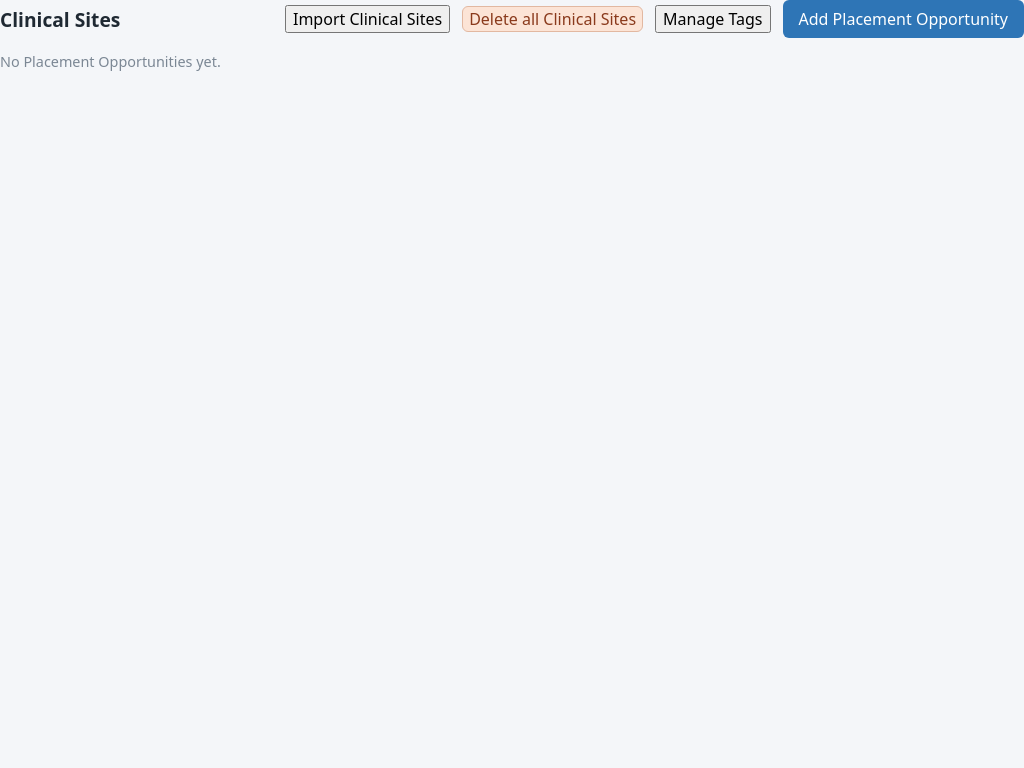
Clinical Sites import dialog › renders the preview with 12-hour times, tags, and tag registry impact
Click the button "Import Clinical Sites". click: (368, 19)
box: [285,5,450,33]
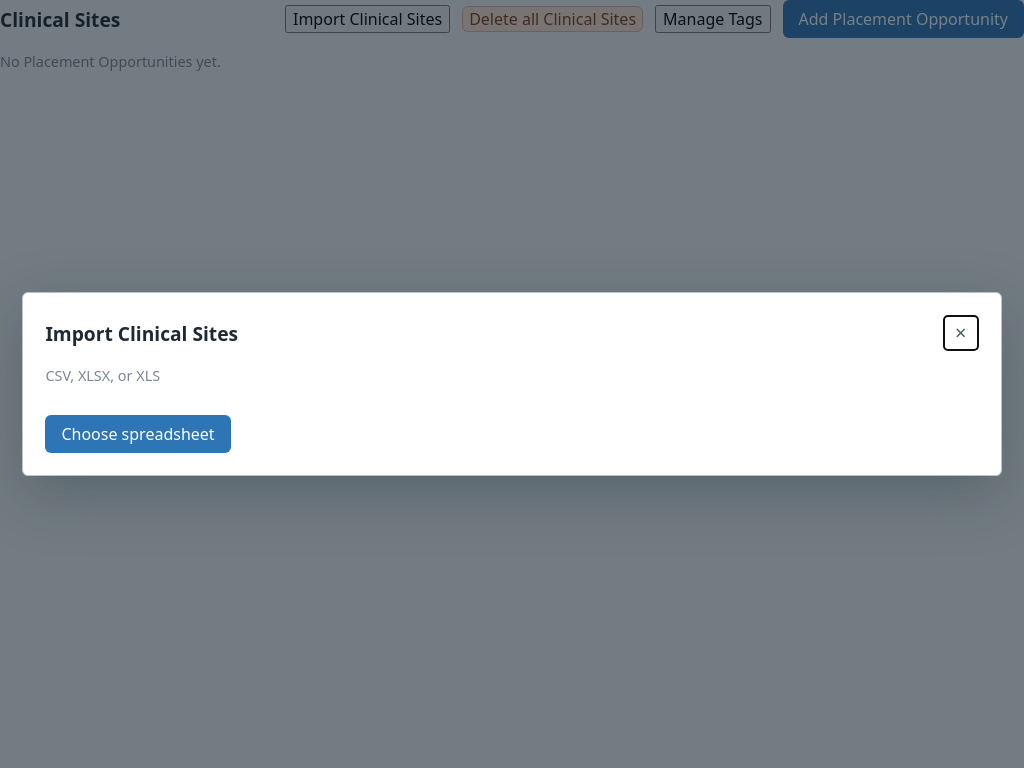
Click the button "Choose spreadsheet". click: (138, 434)
box: [45,415,231,453]
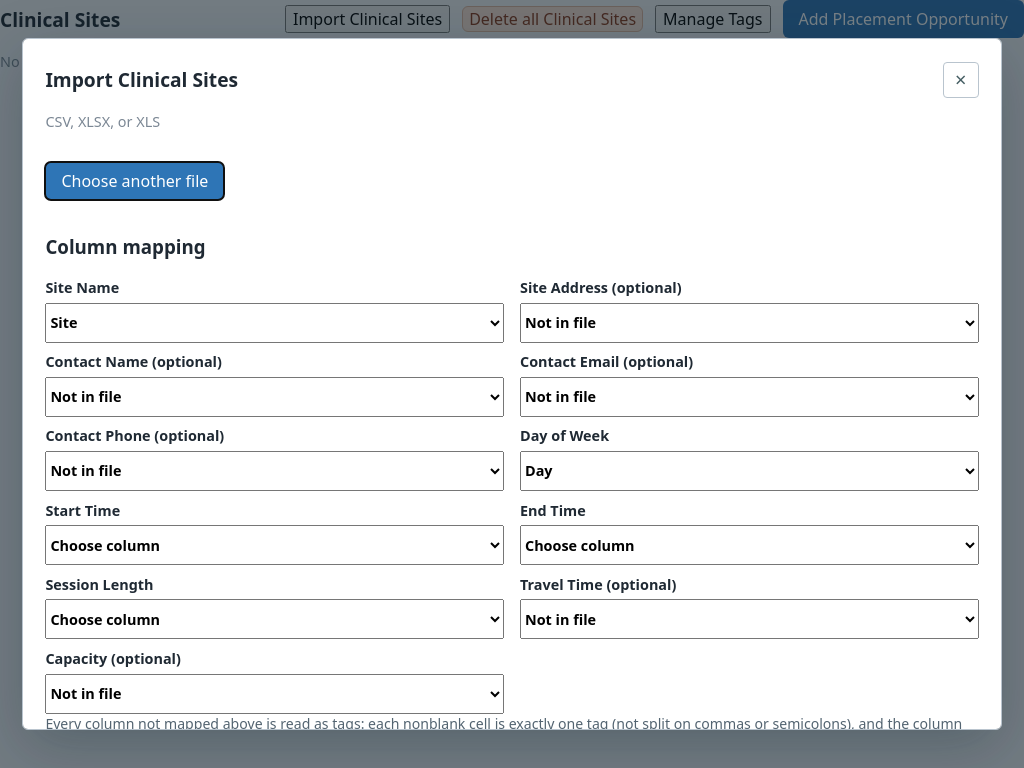
Check: the heading "Column mapping" is shown, box [45,234,206,259]
Select "Begin" in the dropdown labelled "Start Time". click: (275, 545)
box: [45,525,504,565]
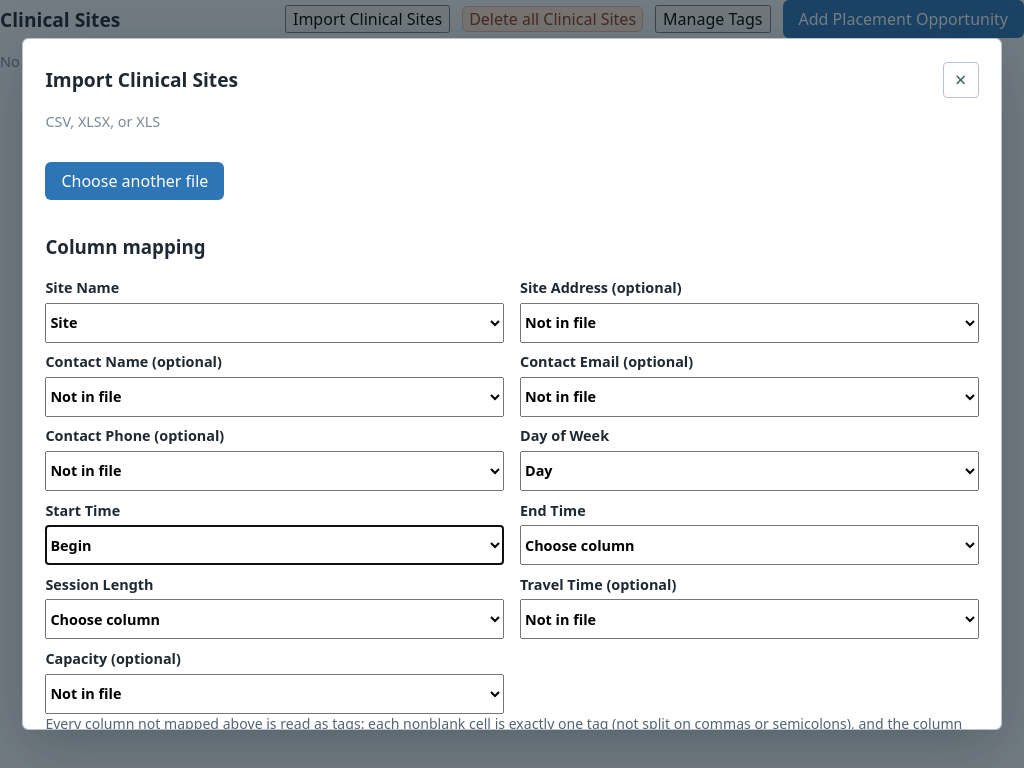
Select "Finish" in the dropdown labelled "End Time". click: (749, 545)
box: [520,525,979,565]
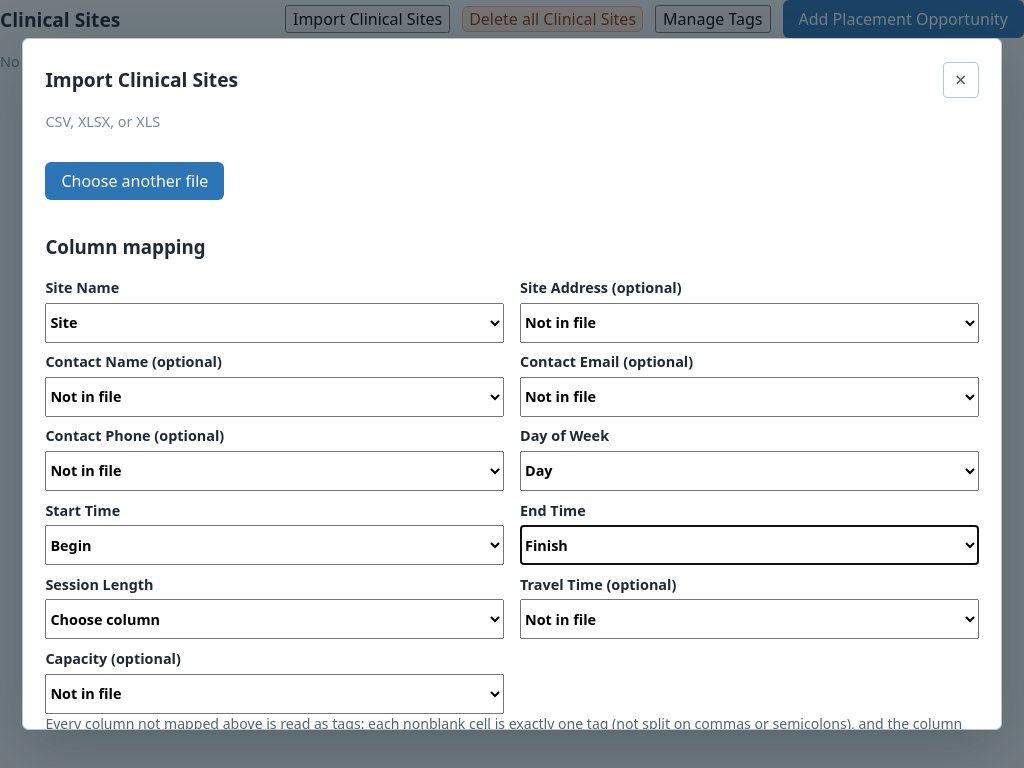
Select "Mins" in the dropdown labelled "Session Length". click: (275, 619)
box: [45,599,504,639]
(page scrolled)
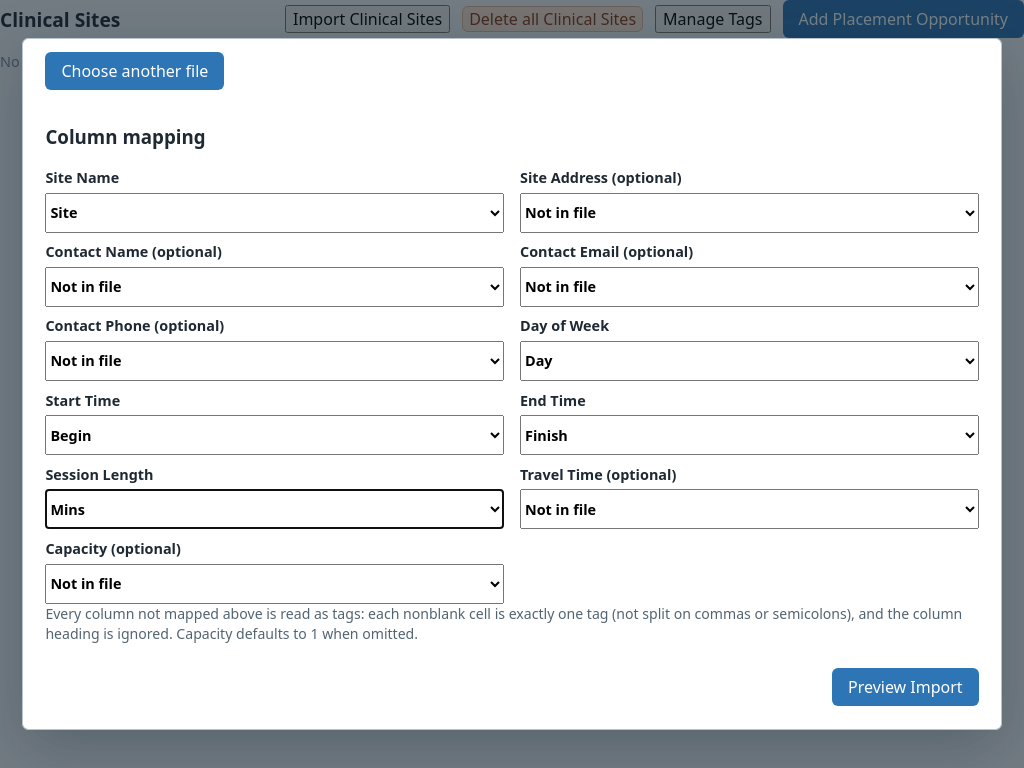
Click the button "Preview Import". click: (905, 687)
box: [832,668,979,706]
(page scrolled)
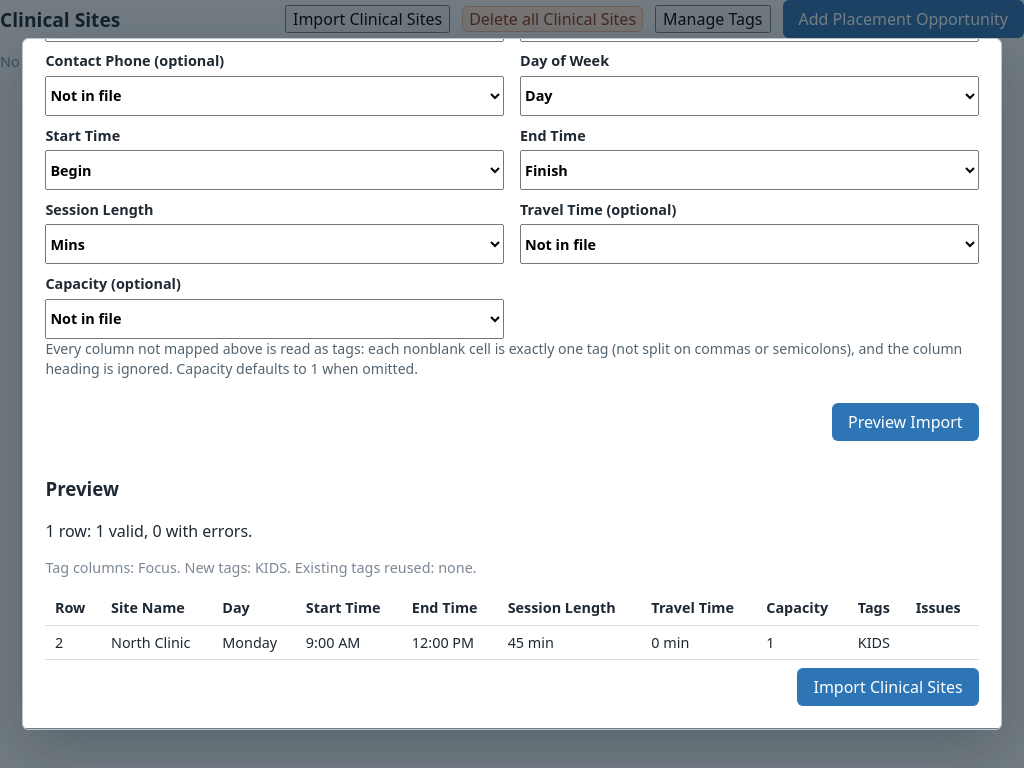
Check: the text "1 row: 1 valid, 0 with errors." is shown, box [45,520,252,542]
Check: the text "9:00 AM" is shown, box [296,625,402,660]
Check: the text "12:00 PM" is shown, box [402,625,498,660]
